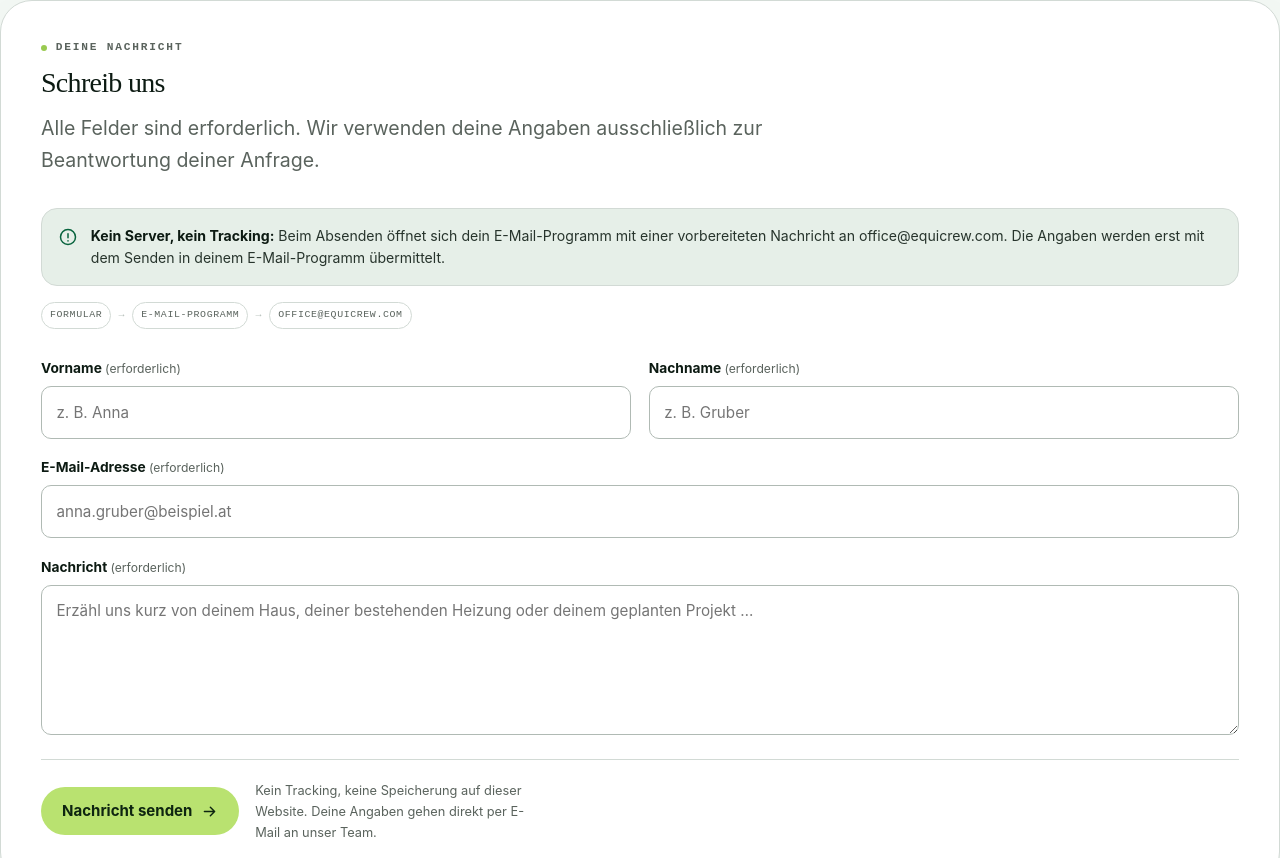
Test case: ContactForm › blocks an empty submit and shows an error at every required field
What coordinates should you click on to do the following:
click the button "Nachricht senden"
I would click on:
 (140, 812)
Its box is [41, 788, 239, 836].
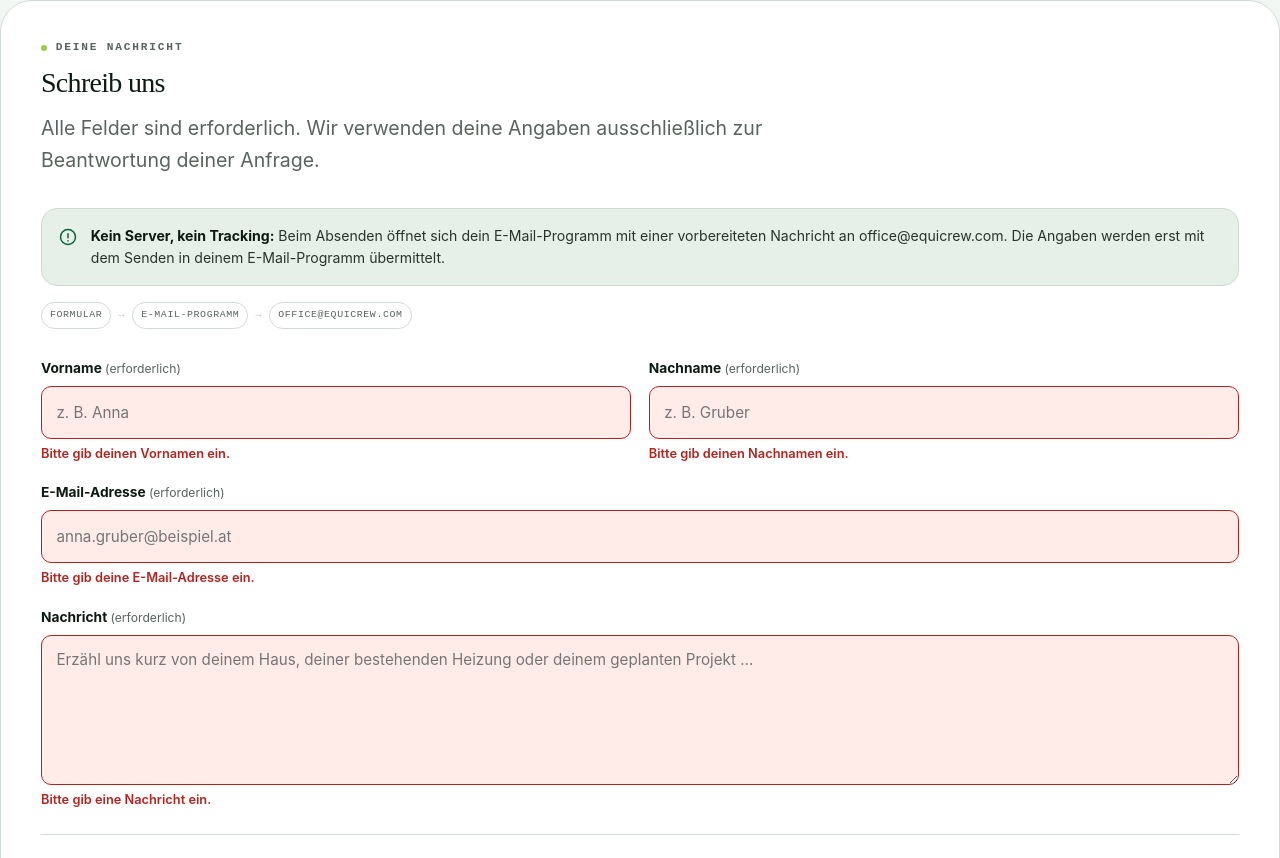
Check: the text "Bitte gib deinen Vornamen ein." is shown, box [41, 446, 230, 461]
Check: the text "Bitte gib deinen Nachnamen ein." is shown, box [649, 446, 849, 461]
Check: the text "Bitte gib deine E-Mail-Adresse ein." is shown, box [41, 570, 255, 586]
